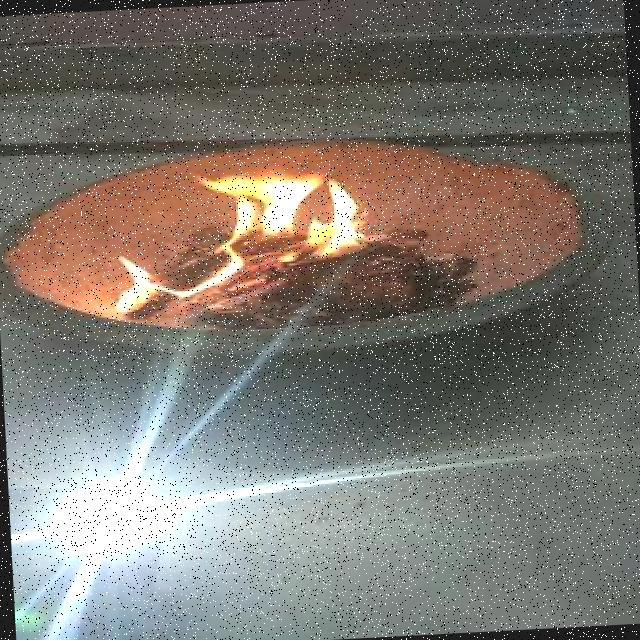Fire: (98, 160, 373, 306)
